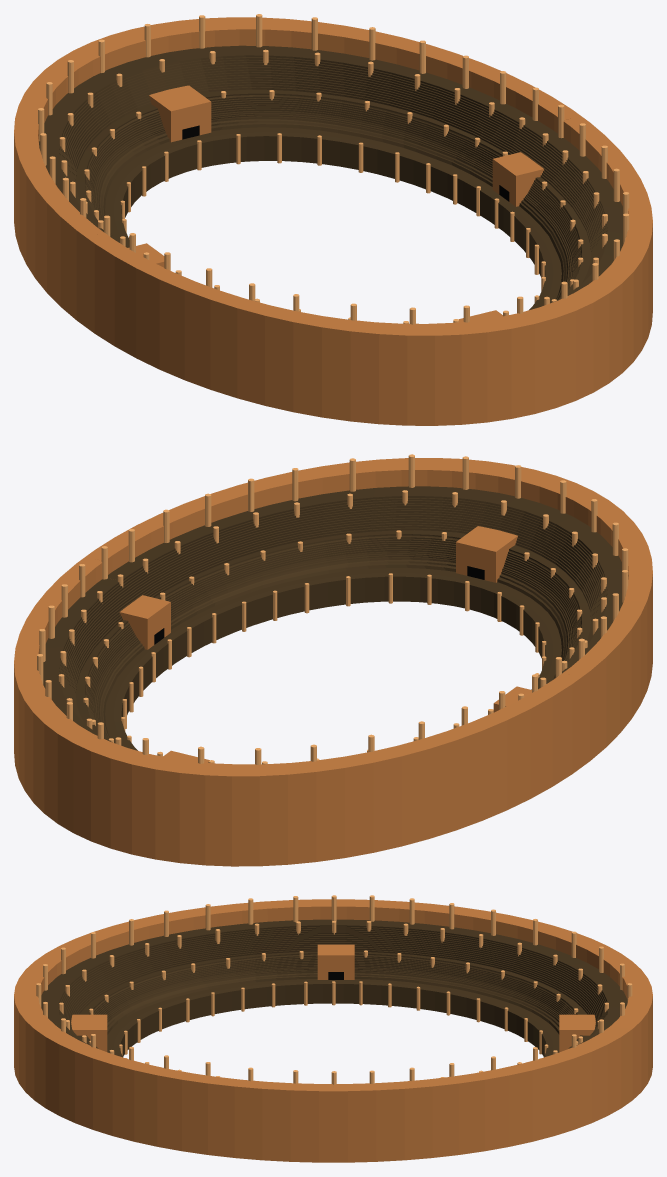
Rendered from ColiséeProto.obj.
The picture shows the model from 3 angles, top to bottom: view 1: azimuth 30°, elevation 25°; view 2: azimuth 150°, elevation 25°; view 3: azimuth 270°, elevation 25°; orthographic projection. The views are drawn at different scales.
Visible parts, largest first — view 1: Col.A.001, Cylinder.004; view 2: Col.A.001, Cylinder.004; view 3: Col.A.001, Cylinder.004.
Boxes of the visible parts, x1=… form: Col.A.001: x1=14, y1=17, x2=652, y2=425; Cylinder.004: x1=38, y1=14, x2=629, y2=324; Col.A.001: x1=14, y1=458, x2=652, y2=866; Cylinder.004: x1=37, y1=454, x2=628, y2=764; Col.A.001: x1=14, y1=899, x2=652, y2=1162; Cylinder.004: x1=36, y1=895, x2=632, y2=1087.
Bounding box in the file's own units: 10.66 × 2.17 × 15.
